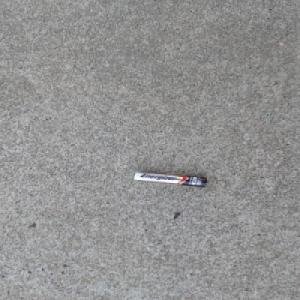Battery: (132, 171, 208, 187)
